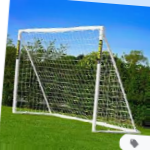goals: (13, 21, 142, 136)
